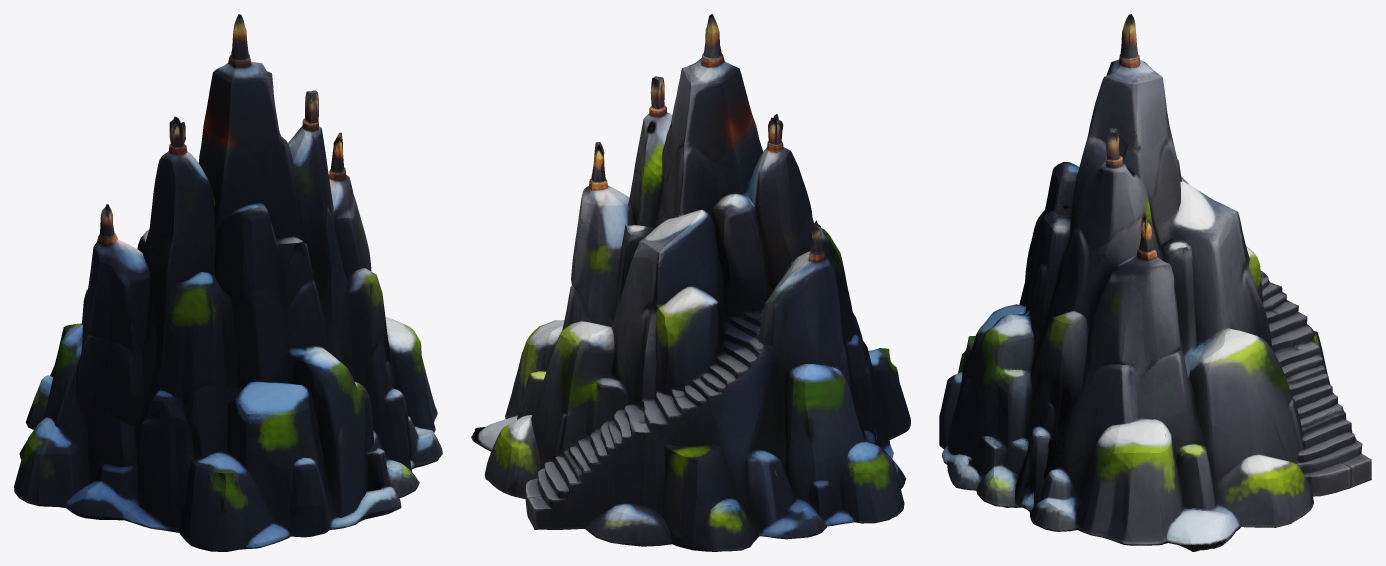
Rendered from stormcrown.glb.
The picture shows the model from 3 angles, left to right: view 1: azimuth 30°, elevation 25°; view 2: azimuth 150°, elevation 25°; view 3: azimuth 270°, elevation 25°; orthographic projection.
Parts seen in each view (by area): view 1: geometry_0; view 2: geometry_0; view 3: geometry_0.
Boxes of the visible parts, <box> form: geometry_0: <box>14,14,442,551</box>; geometry_0: <box>471,14,910,551</box>; geometry_0: <box>939,14,1371,551</box>.
Size of the model in its own units: 0.9661 by 1 by 0.895.
1 material, 1 textured.
